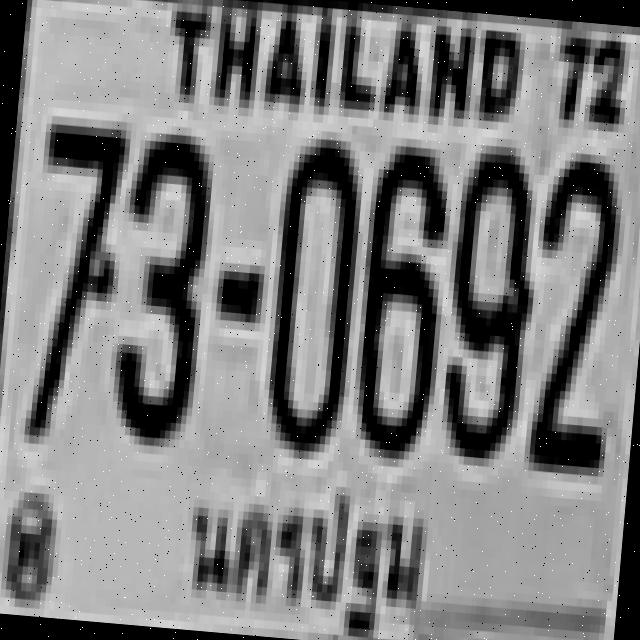0: (259, 132, 361, 449)
2: (518, 150, 620, 467)
3: (105, 122, 212, 440)
6: (349, 136, 451, 452)
7: (16, 114, 124, 440)
9: (434, 138, 541, 456)
NakhonPathom: (178, 471, 433, 640)
